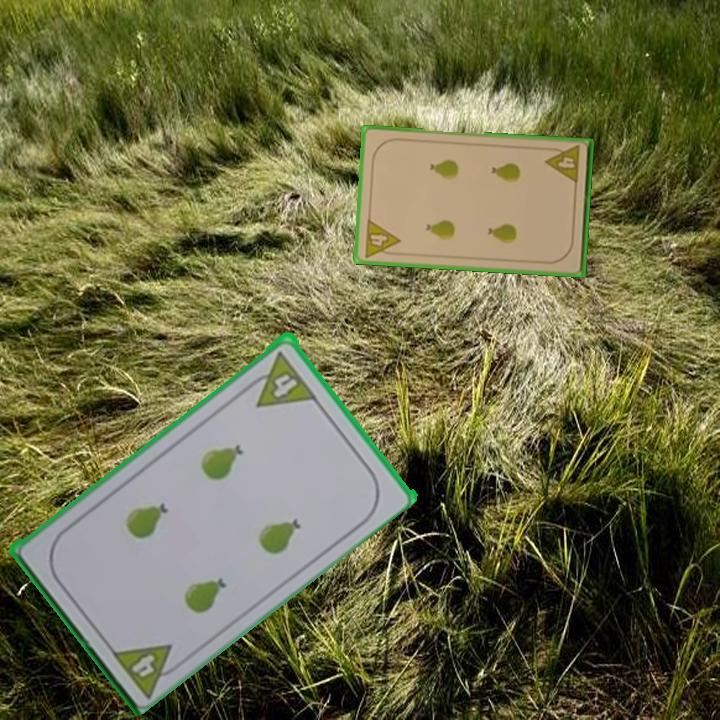4p: (256, 365, 316, 410), (361, 216, 403, 260), (542, 142, 583, 187), (128, 649, 158, 680)
